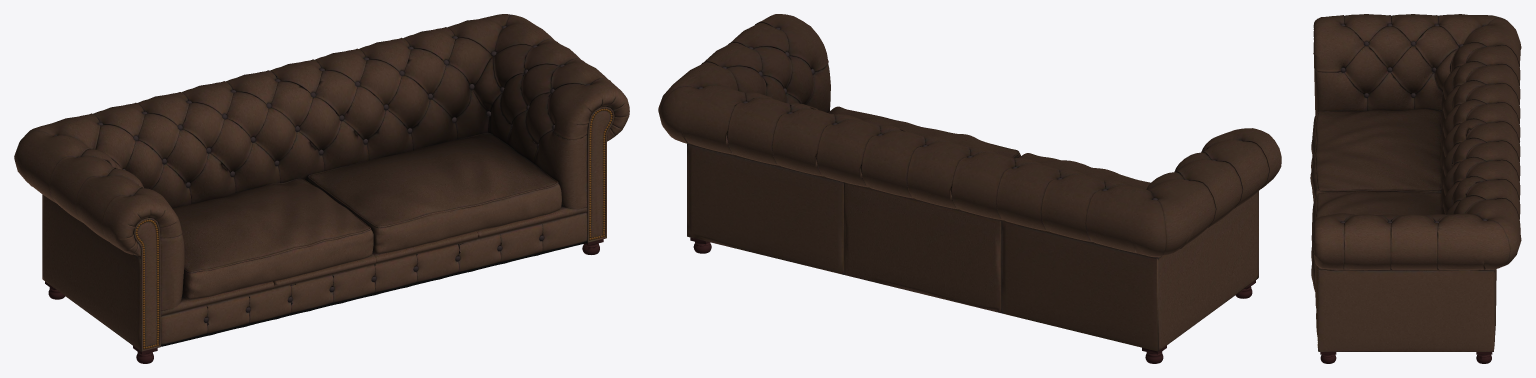
The model's file is sofa.glb.
The picture shows the model from 3 angles, left to right: view 1: azimuth 30°, elevation 25°; view 2: azimuth 150°, elevation 25°; view 3: azimuth 270°, elevation 25°; orthographic projection. The views are drawn at different scales.
Parts seen in each view (by area): view 1: pasted__sofabody2_pasted__sofabody2Shape_bakedmtl2_0, pasted__sodametals_pasted__coopermat1_0, pasted__sofabuttons_pasted__buttonsmat1_0, pasted__sofalegs_pasted__sofalegsShape_bakedmtl2_0; view 2: pasted__sofabody2_pasted__sofabody2Shape_bakedmtl2_0, pasted__sofalegs_pasted__sofalegsShape_bakedmtl2_0; view 3: pasted__sofabody2_pasted__sofabody2Shape_bakedmtl2_0, pasted__sofalegs_pasted__sofalegsShape_bakedmtl2_0, pasted__sofabuttons_pasted__buttonsmat1_0.
Part boxes in pixels (<box>): pasted__sofabody2_pasted__sofabody2Shape_bakedmtl2_0: <box>14,14,629,351</box>; pasted__sodametals_pasted__coopermat1_0: <box>135,108,612,349</box>; pasted__sofabuttons_pasted__buttonsmat1_0: <box>54,26,590,322</box>; pasted__sofalegs_pasted__sofalegsShape_bakedmtl2_0: <box>45,239,603,363</box>; pasted__sofabody2_pasted__sofabody2Shape_bakedmtl2_0: <box>658,14,1281,351</box>; pasted__sofalegs_pasted__sofalegsShape_bakedmtl2_0: <box>690,237,1255,363</box>; pasted__sofabody2_pasted__sofabody2Shape_bakedmtl2_0: <box>1310,14,1521,351</box>; pasted__sofalegs_pasted__sofalegsShape_bakedmtl2_0: <box>1320,352,1492,363</box>; pasted__sofabuttons_pasted__buttonsmat1_0: <box>1341,23,1489,222</box>.
Size of the model in its own units: 1215 by 373 by 482.
Materials: 4 (1 with a texture image).
